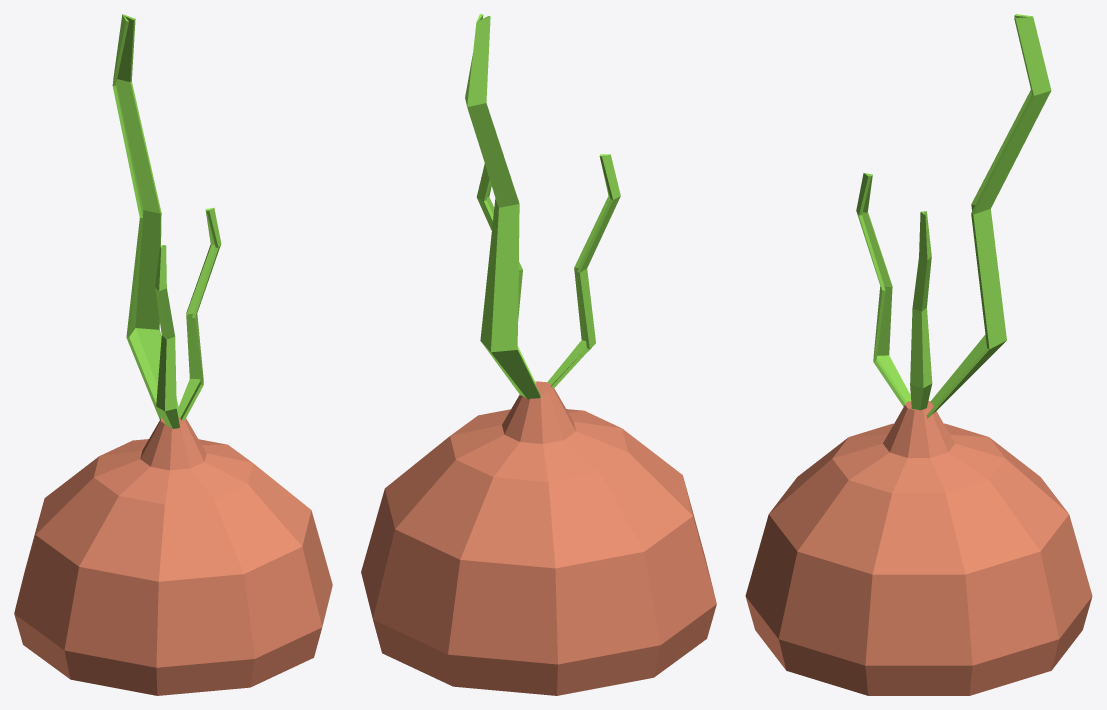
Rendered from fruit09.fbx.
3 renders of one model, left to right at view 1: azimuth 30°, elevation 25°; view 2: azimuth 150°, elevation 25°; view 3: azimuth 270°, elevation 25°, orthographic. The views are drawn at different scales.
Parts seen in each view (by area): view 1: Plane.004; view 2: Plane.004; view 3: Plane.004.
Boxes of the visible parts, bbox=[...] form: Plane.004: bbox=[14, 14, 332, 695]; Plane.004: bbox=[361, 14, 716, 695]; Plane.004: bbox=[745, 14, 1092, 695].
Bounding box in the file's own units: 0.0567 × 0.1166 × 0.0596.
